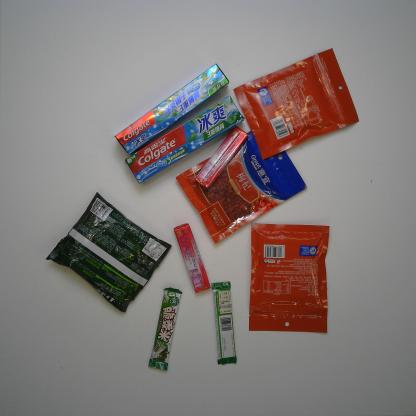Candy: (196, 126, 247, 190), (175, 223, 211, 294)
Chocolate: (147, 287, 182, 372), (210, 281, 237, 364)
Dried Fruit: (176, 120, 308, 244), (233, 48, 359, 159), (248, 223, 329, 334)
Instant Noodles: (45, 192, 172, 313)
Personal Hygiene: (123, 97, 246, 184), (114, 64, 230, 155)
